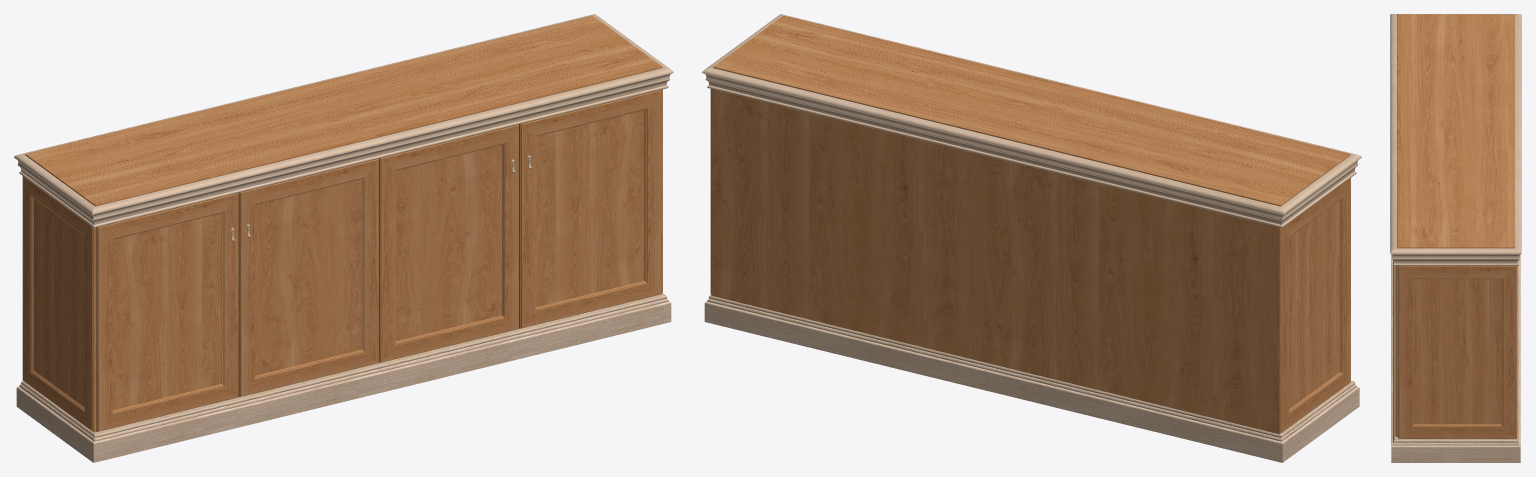
The model's file is Locker 1.obj.
3 renders of one model, left to right at view 1: azimuth 30°, elevation 25°; view 2: azimuth 150°, elevation 25°; view 3: azimuth 270°, elevation 25°, orthographic. The views are drawn at different scales.
Visible parts, largest first — view 1: Box039; view 2: Box039; view 3: Box039.
Part boxes in pixels (x1,y1,x2,y2): Box039: (14,14,673,462); Box039: (702,14,1361,462); Box039: (1390,14,1521,462).
Bounding box in the file's own units: 72.9 × 30.42 × 16.99.
